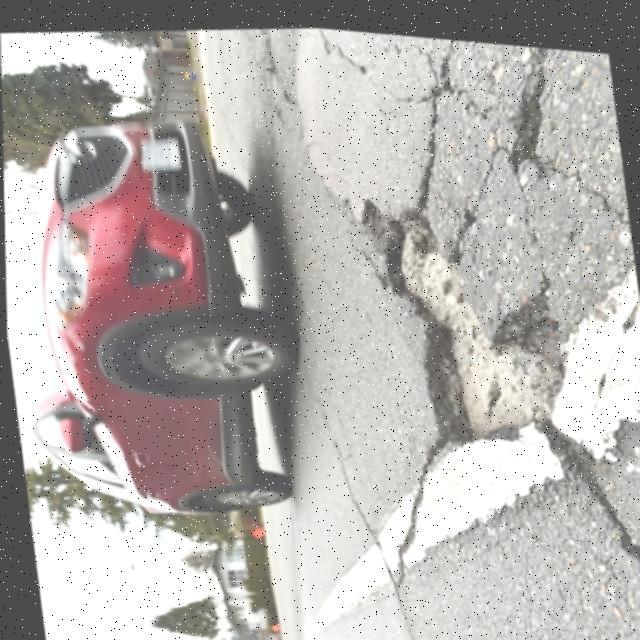pothole: (364, 176, 580, 475)
